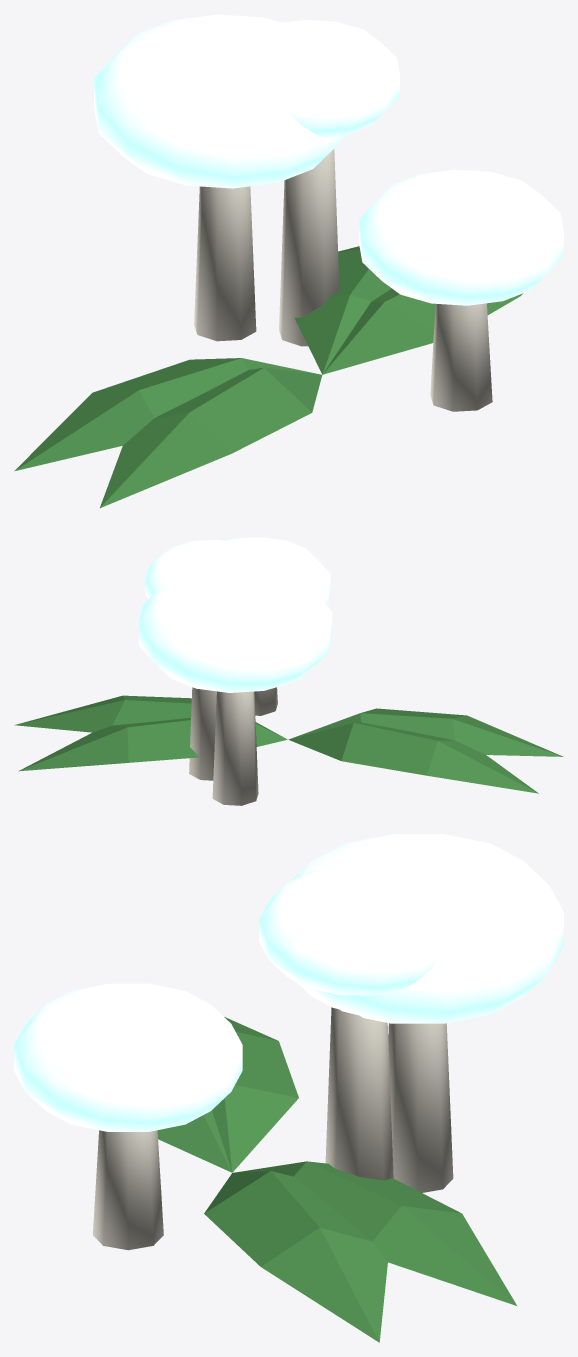
The model's file is bush_2.glb.
The picture shows the model from 3 angles, top to bottom: view 1: azimuth 30°, elevation 25°; view 2: azimuth 150°, elevation 25°; view 3: azimuth 270°, elevation 25°; orthographic projection. The views are drawn at different scales.
Visible parts, largest first — view 1: Cone; view 2: Cone; view 3: Cone.
Part boxes in pixels (bbox=[...]): Cone: bbox=[14, 14, 563, 507]; Cone: bbox=[14, 537, 563, 805]; Cone: bbox=[14, 834, 563, 1342].
Bounding box in the file's own units: 1.13 × 0.5141 × 0.7737.
